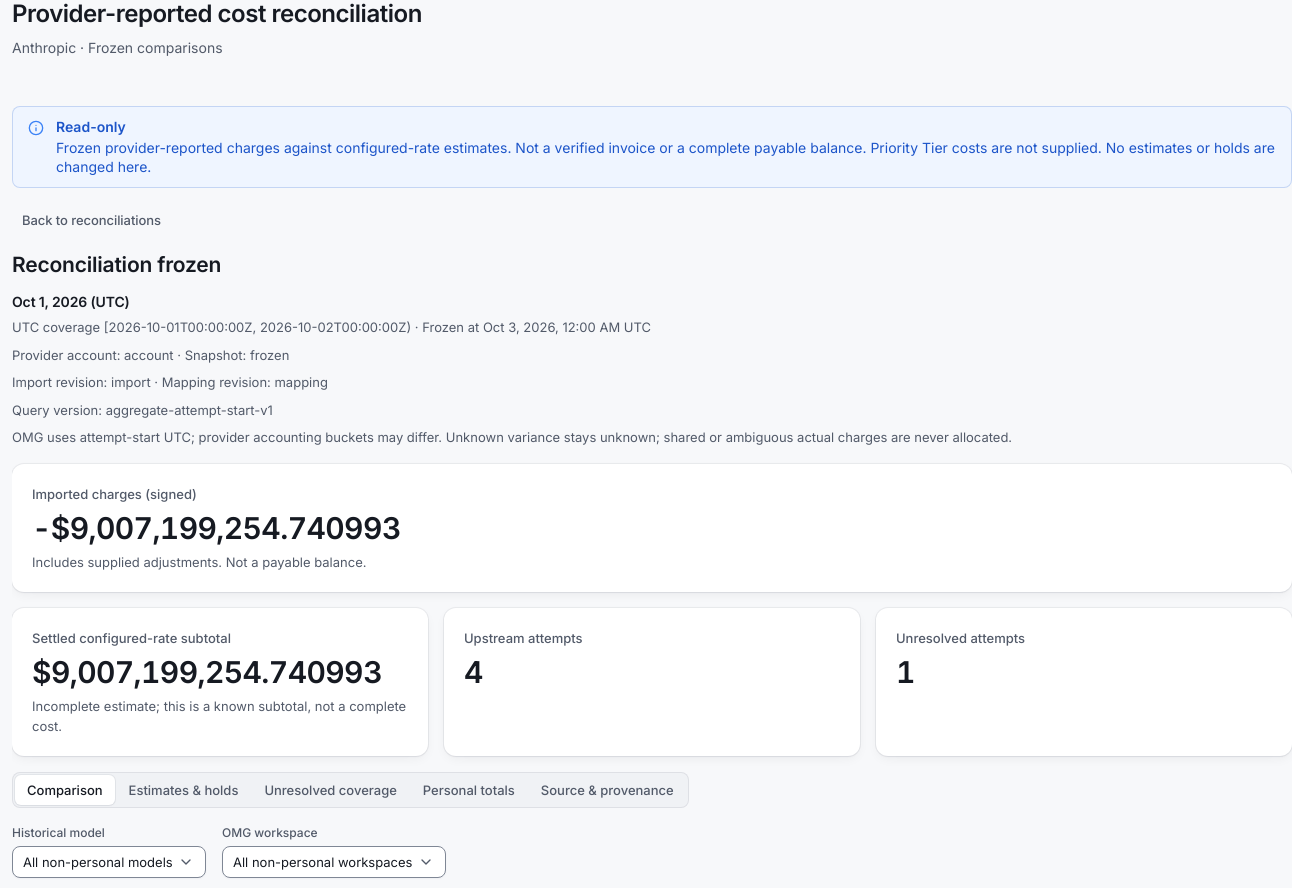
Test case: provider-reported cost comparison › combines personal totals without identities, models or drilldowns
Click the tab "Personal totals" at (469, 790), box [411,776,527,806]
(page scrolled)
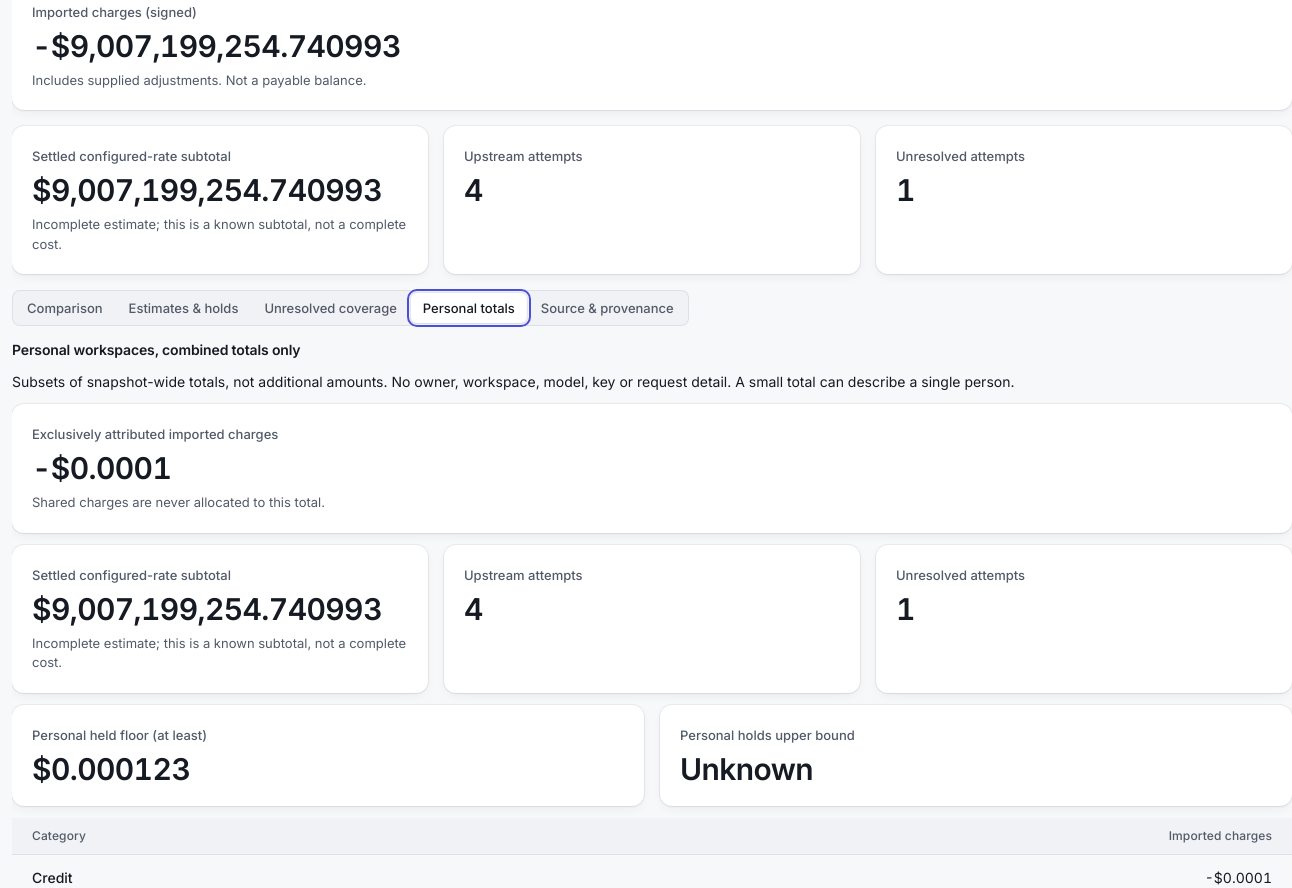
expect the element "Personal workspaces, combined totals only" shows "-$0.0001": met, box [32,450,171,486]
